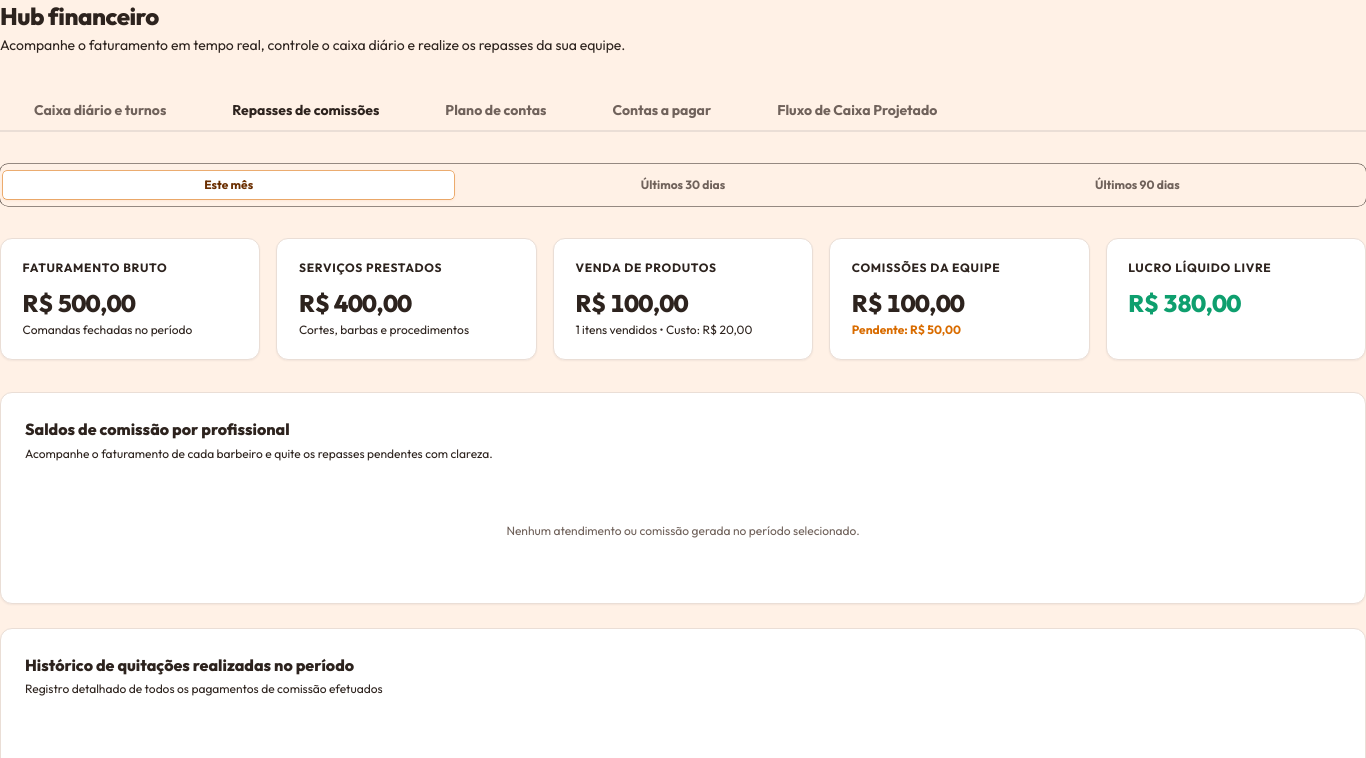
Scenario: Página Financeiro (Gerente - Hub Financeiro) › deve recarregar os próprios dados de cada aba ao remontar por troca de rota (achado de revisão pós-merge)
Expected: the heading "Saldos de comissão por profissional" is shown, [25,419,290,439]
Click the link "Caixa diário e turnos" at x=100, y=110, box [34,101,166,119]
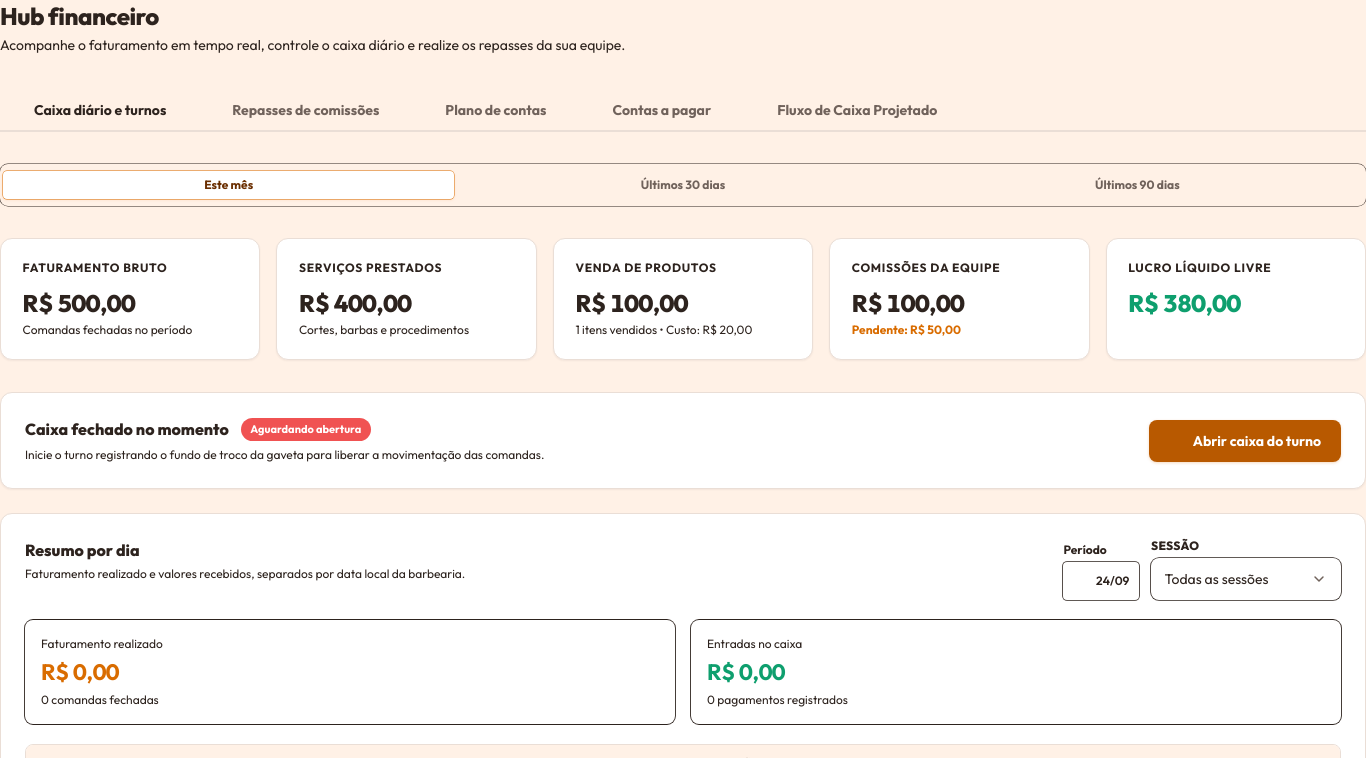
Click the link "Repasses de comissões" at x=306, y=110, box [232,101,379,119]
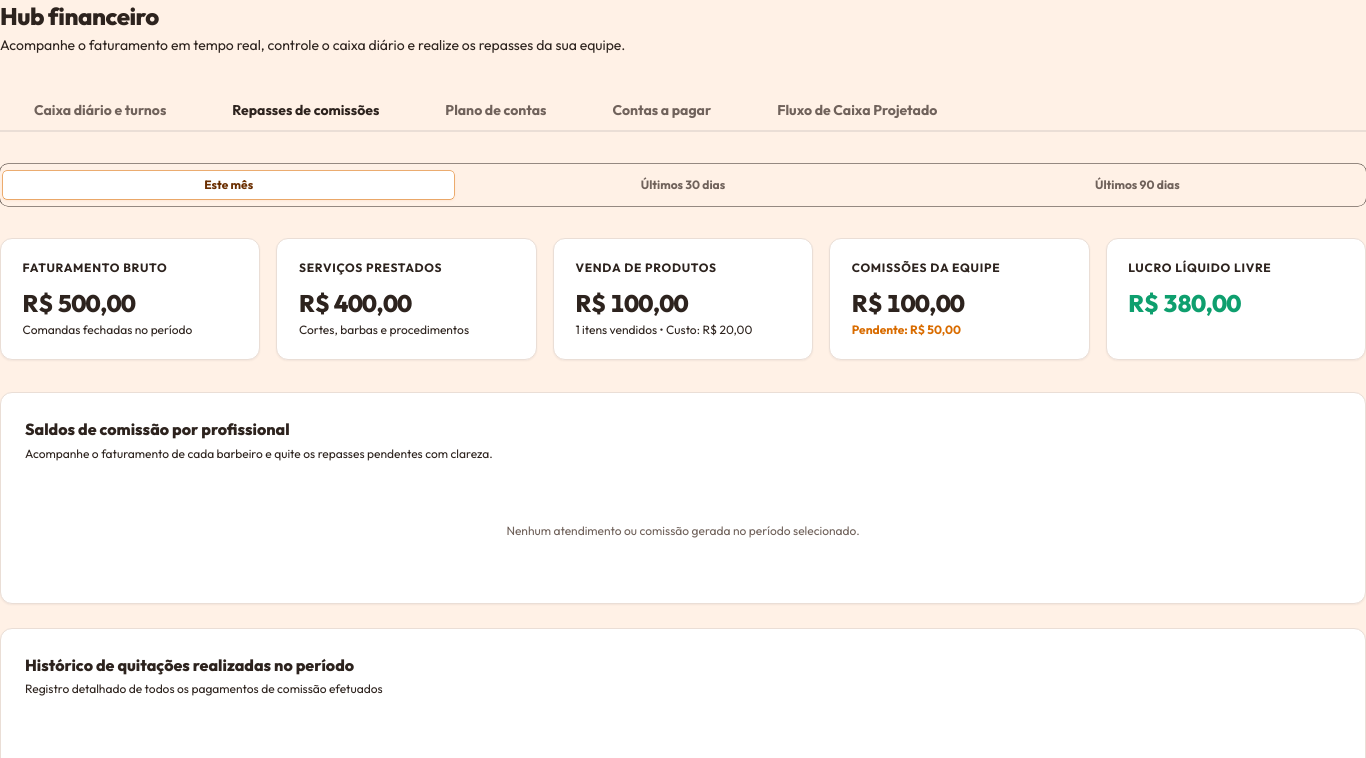
Expected: the heading "Saldos de comissão por profissional" is shown, [25,419,290,439]
